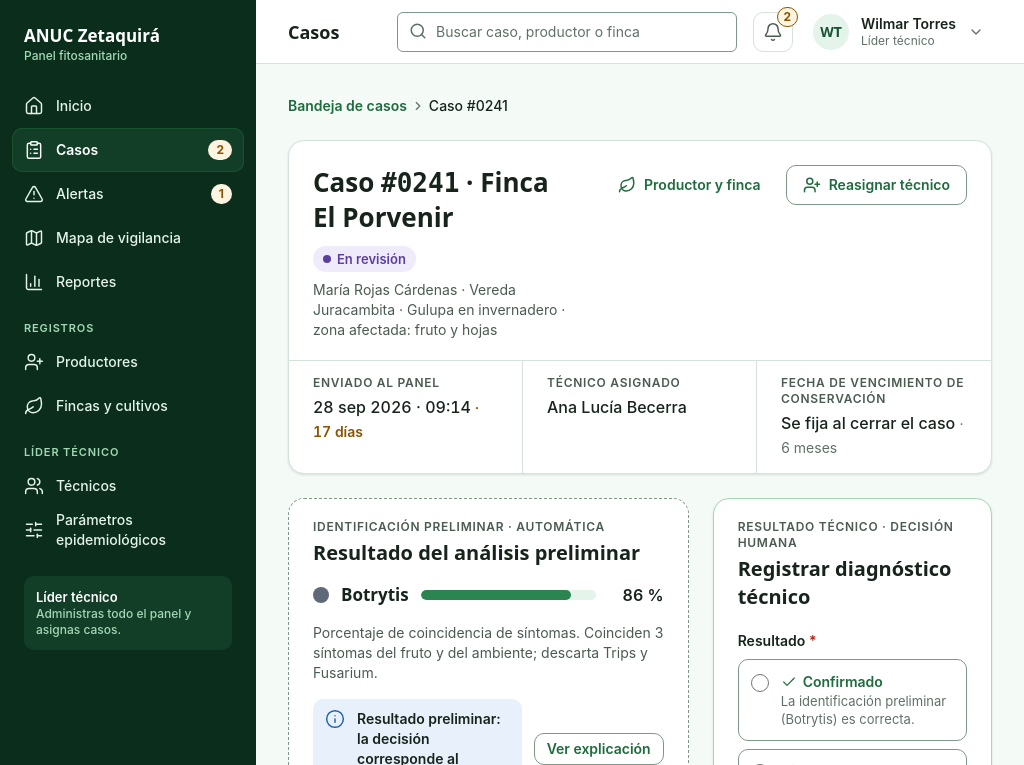
Test: Diagnóstico técnico y cierre › guarda el diagnóstico (Registrado), habilita el cierre y cierra el caso en solo lectura
The width and height of the screenshot is (1024, 765).
Click the radio button labelled "Confirmado" at (760, 683), box [751,674,769,692]
(page scrolled)
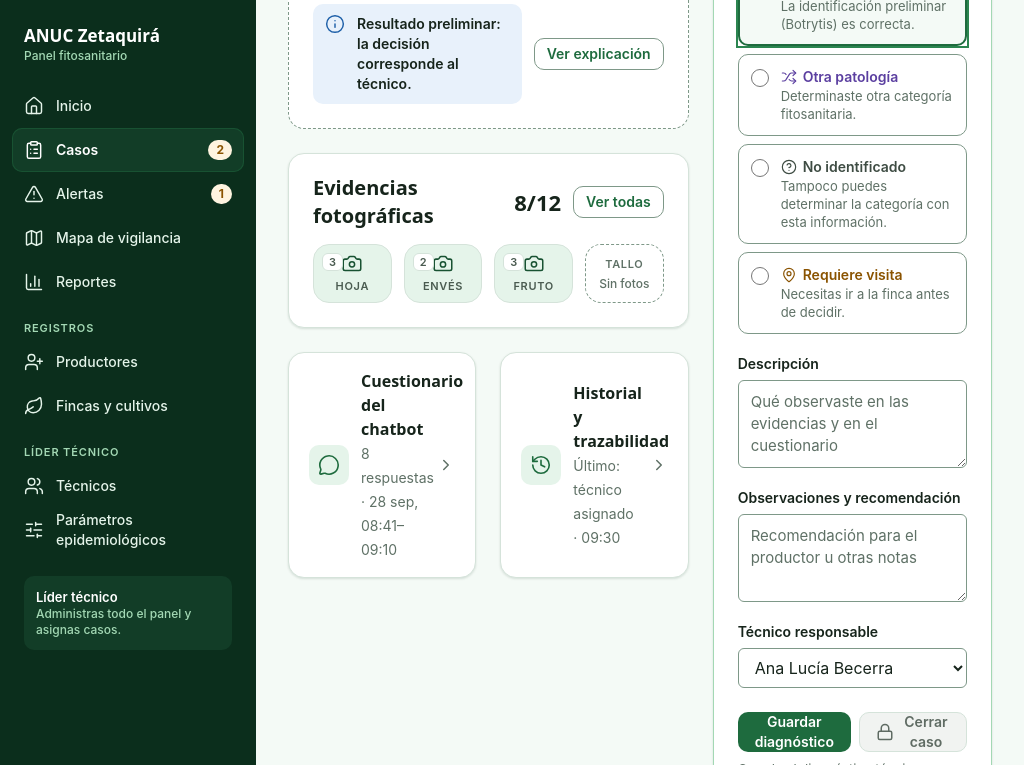
Type "Moho gris en el interior del fruto." into the text box labelled "Descripción" at (852, 424), box [738,380,967,468]
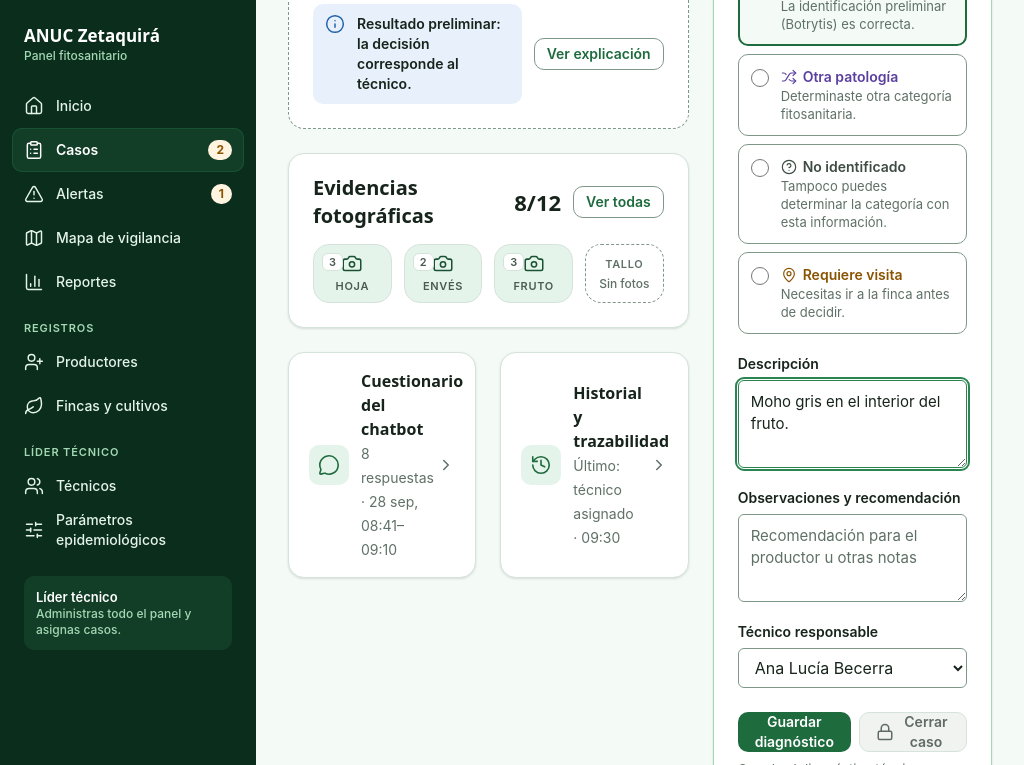
Click the button "Guardar diagnóstico" at (794, 732), box [738,712,851,752]
(page scrolled)
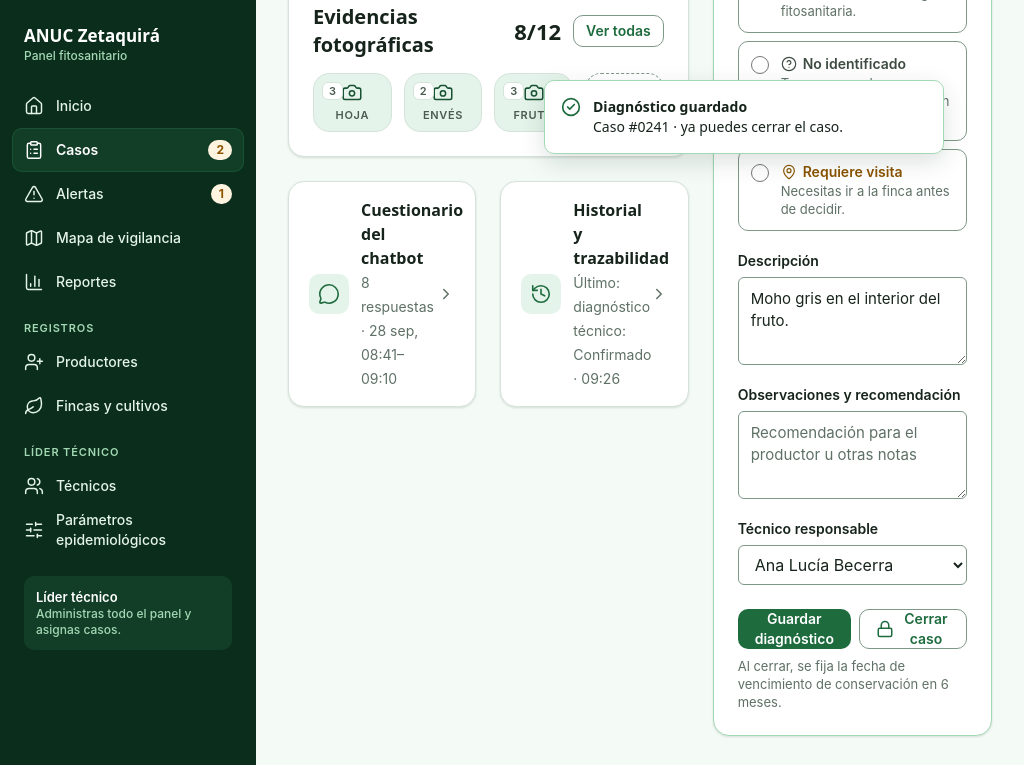
Check: the text "Diagnóstico guardado" is shown, box [593,97,747,116]
Check: the text "Caso #0241 · ya puedes cerrar el caso." is shown, box [593,117,843,136]
Check: the button "Cerrar caso" is enabled
Click the button "Cerrar caso" at (913, 629), box [859,609,967,649]
(page scrolled)
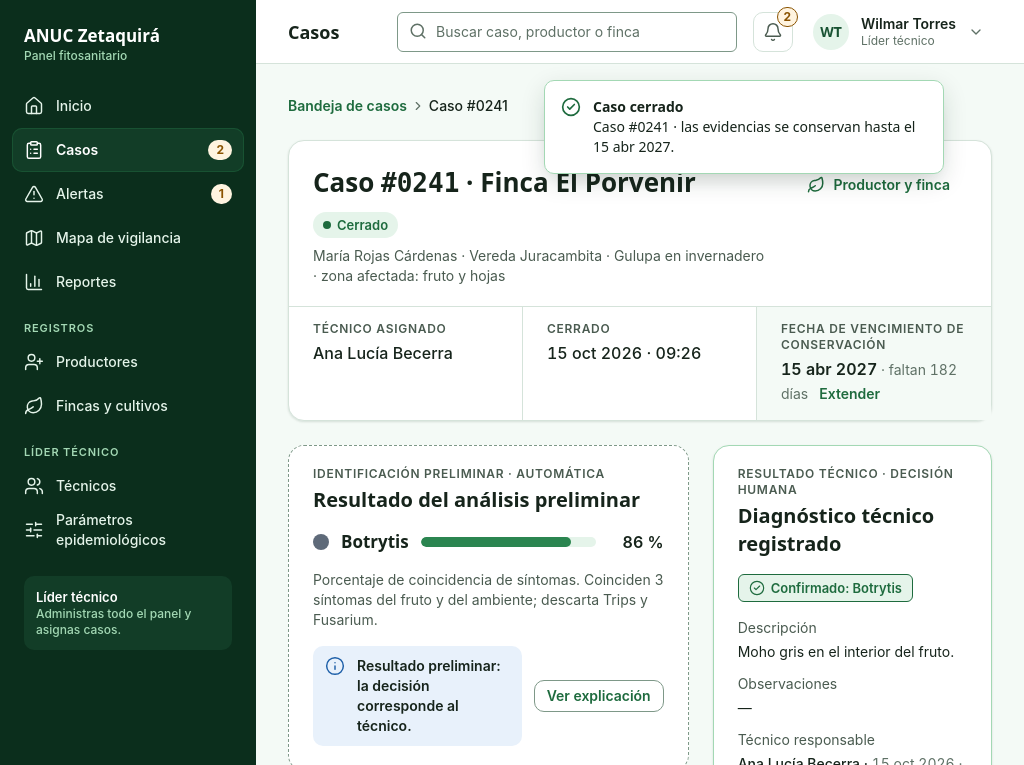
Check: the text "Caso cerrado" is shown, box [593,97,684,116]
Check: the heading "Diagnóstico técnico registrado" is shown, box [738,502,967,558]
Check: the button "Guardar diagnóstico" is gone
